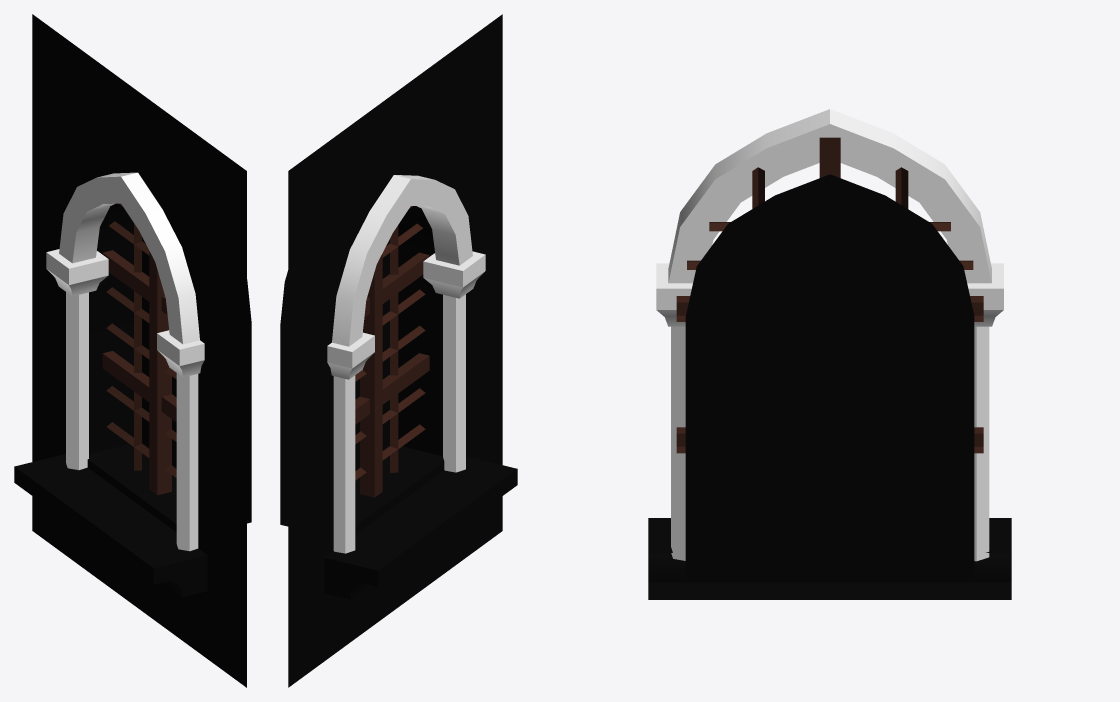
File: standard_window_13.FBX
3 views of the same model, side by side, from view 1: azimuth 30°, elevation 25°; view 2: azimuth 150°, elevation 25°; view 3: azimuth 270°, elevation 25° (orthographic). The views are drawn at different scales.
Visible parts, largest first — view 1: standard_window_13; view 2: standard_window_13; view 3: standard_window_13.
Boxes of the visible parts, x1,y1,x2,y2 form: standard_window_13: (14,14,251,687); standard_window_13: (280,14,517,687); standard_window_13: (648,109,1011,599).
Bounding box in the file's own units: 71.26 × 314 × 236.
